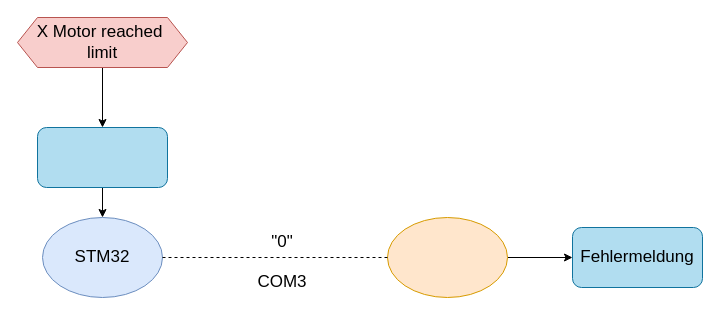
The diagram is 720 pixels wide and 315 high, and some of its shapes have lost their labels. The centre of each missing label's shape, as x and y in pixels:
GUI: the point at 447,257
Interrupt: the point at 102,157
